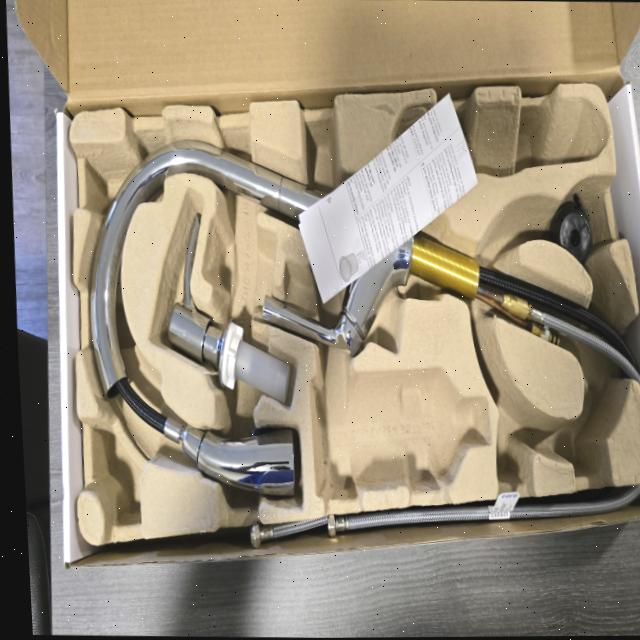1o: (88, 138, 640, 496)
2: (168, 213, 290, 401)
3m: (311, 370, 492, 495)
4m: (393, 95, 610, 176)
5: (551, 194, 591, 256)
6m: (562, 378, 621, 478)
7m: (486, 351, 552, 486)
8: (294, 92, 479, 305)
